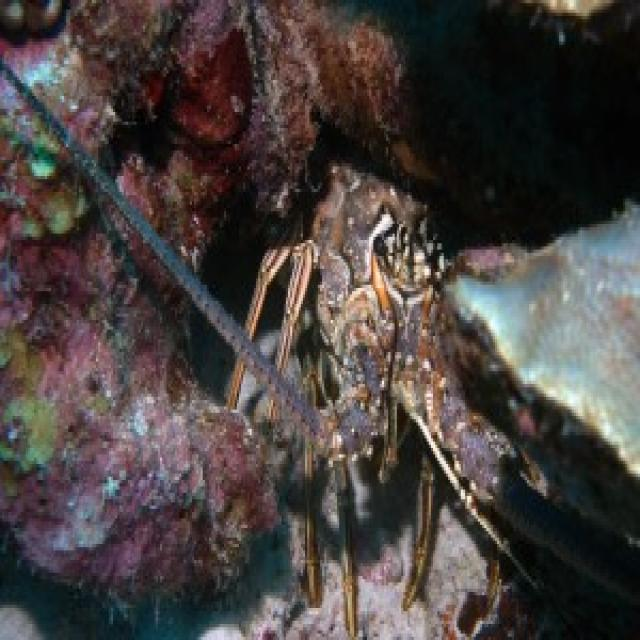lobsters: (51, 0, 546, 554)
